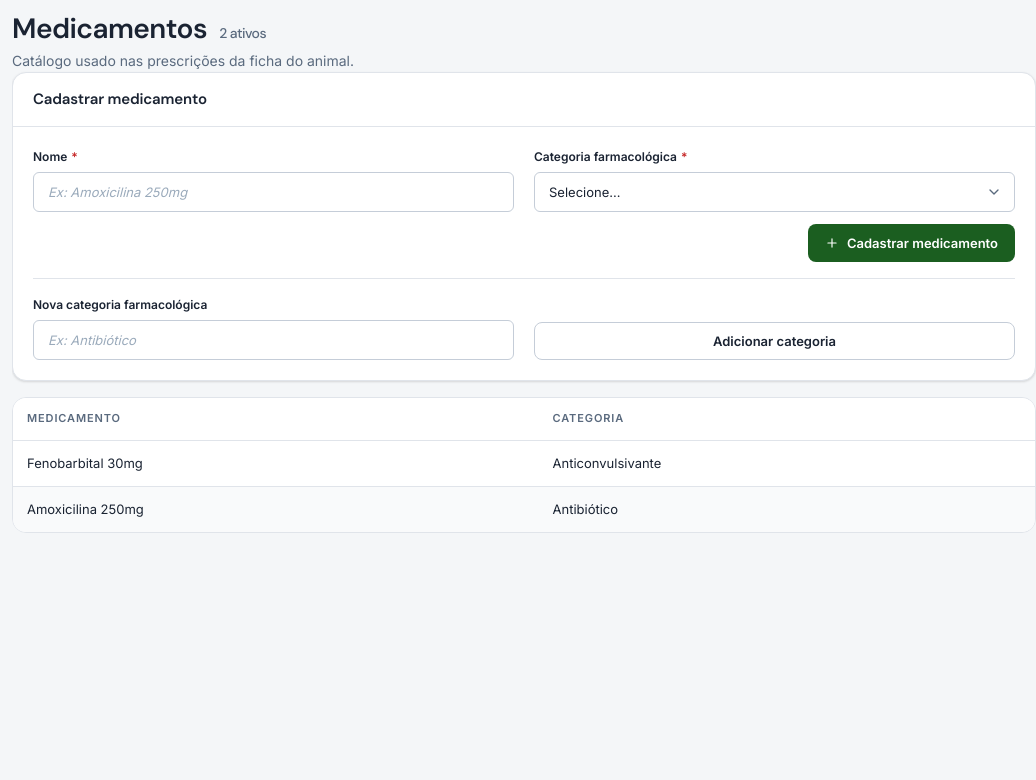
Test case: Medicamentos › cadastra uma categoria nova, já a escolhe e cadastra o medicamento na lista
Expected: the text "Fenobarbital 30mg" is shown, 13,441 -> 538,487
Step 1. Type "Anti-inflamatório" into the field labelled "Nova categoria farmacológica" → (274, 340), box 33,320 -> 514,360
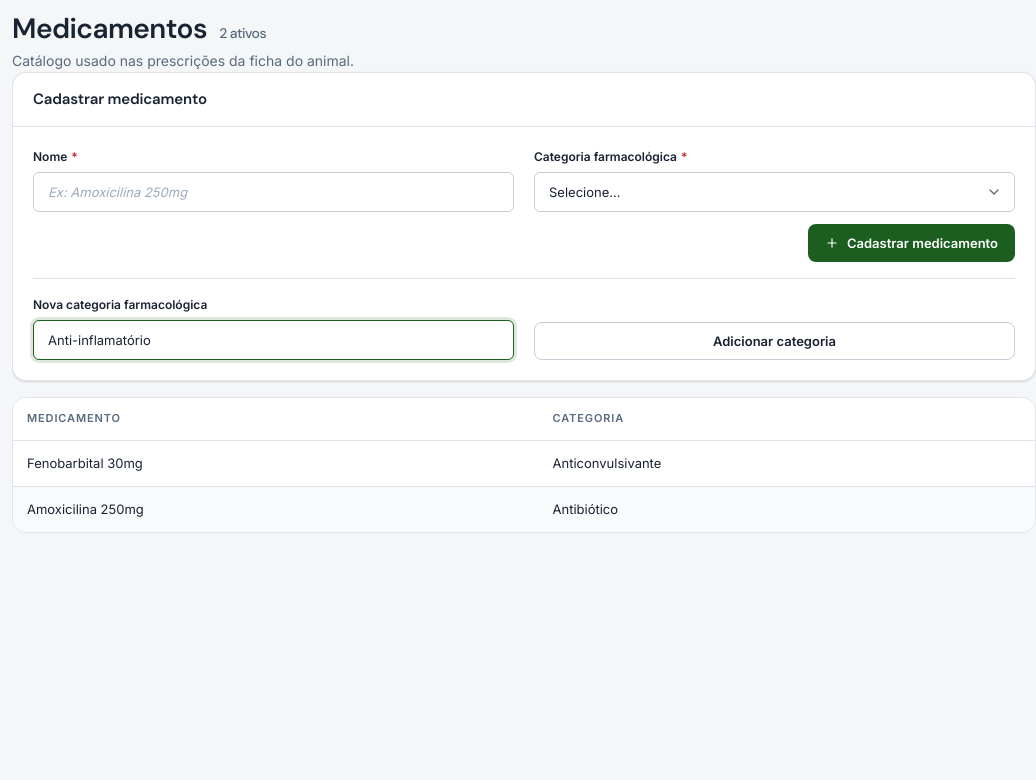
Step 2. Click the button "Adicionar categoria" → (774, 341), box 534,322 -> 1015,360
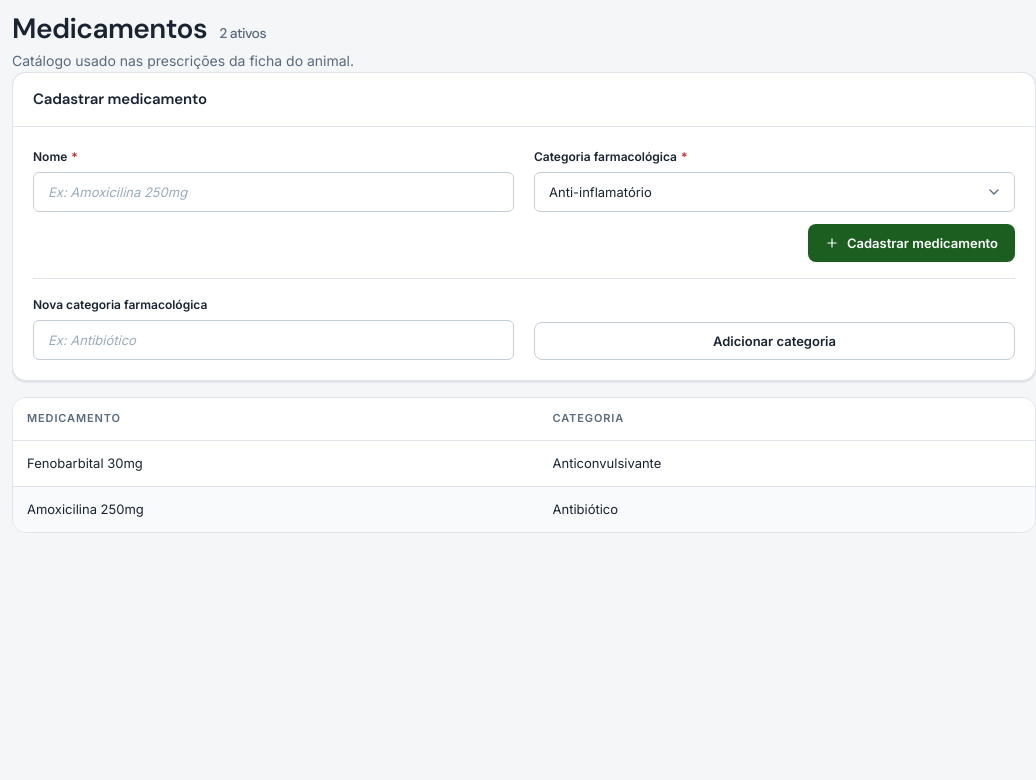
Expected: the dropdown labelled "Categoria farmacológica *" shows "Anti-inflamatório", 534,172 -> 1015,212
Step 3. Type "Meloxicam 2mg" into the field labelled "Nome *" → (274, 192), box 33,172 -> 514,212
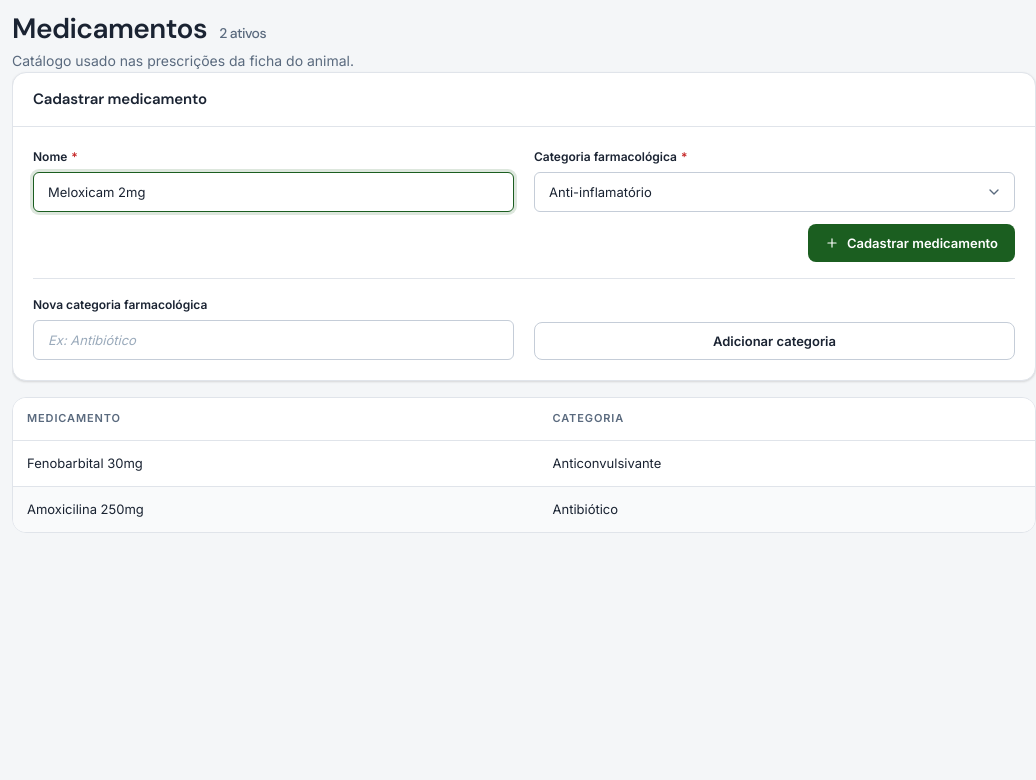
Step 4. Click the button "Cadastrar medicamento" → (911, 243), box 808,224 -> 1015,262
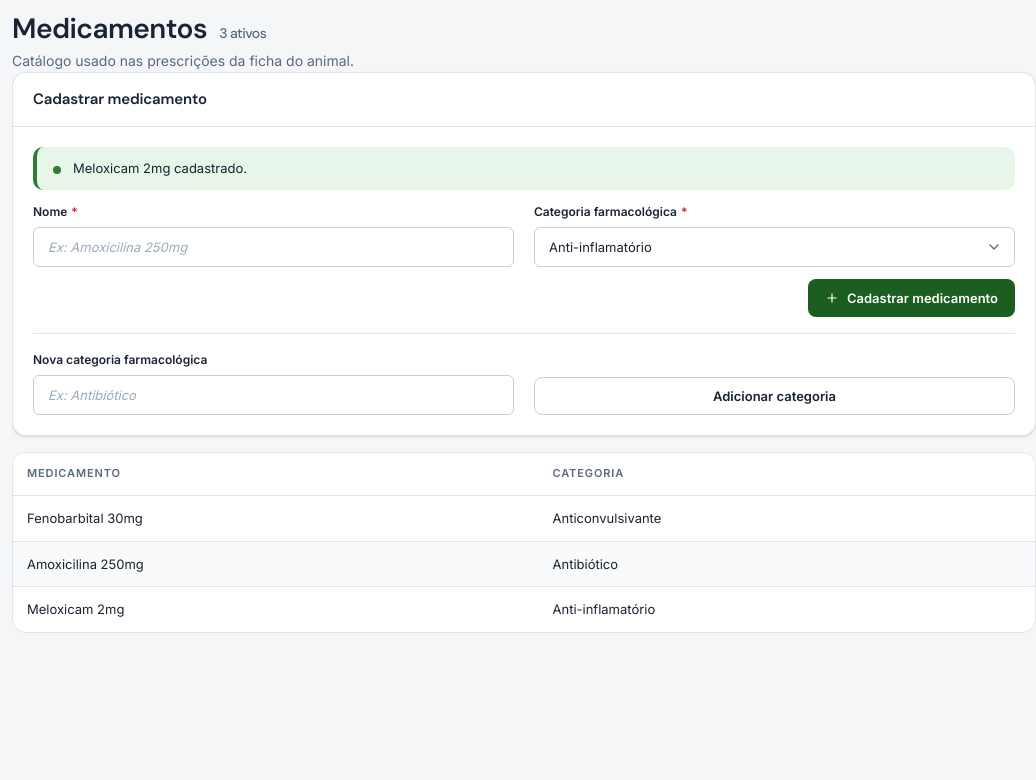
Expected: the cell "Meloxicam 2mg" is shown, 13,587 -> 538,632
Expected: the message reads "Meloxicam 2mg cadastrado.", 73,160 -> 247,176
